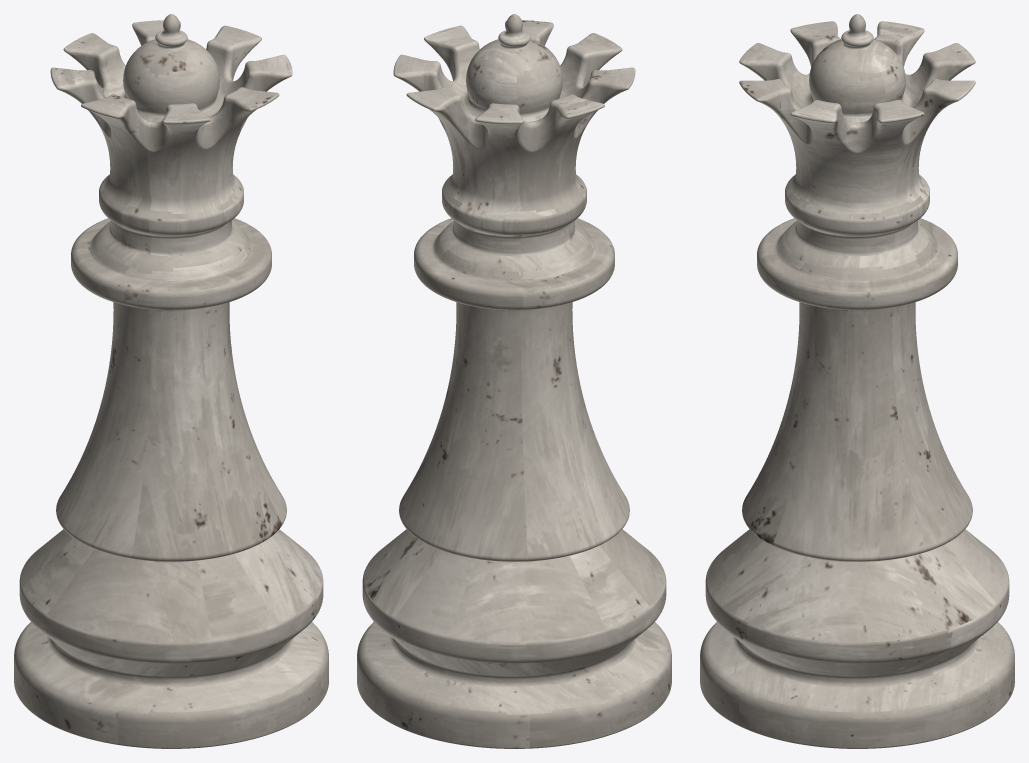
Rendered from wqueen.glb.
The picture shows the model from 3 angles, left to right: view 1: azimuth 30°, elevation 25°; view 2: azimuth 150°, elevation 25°; view 3: azimuth 270°, elevation 25°; orthographic projection.
Parts seen in each view (by area): view 1: QueeN; view 2: QueeN; view 3: QueeN.
Boxes of the visible parts, x1,y1,x2,y2 form: QueeN: (14,14,328,748); QueeN: (357,14,671,748); QueeN: (700,14,1014,748).
Size of the model in its own units: 0.032 by 0.075 by 0.032.
1 material, 1 textured.
